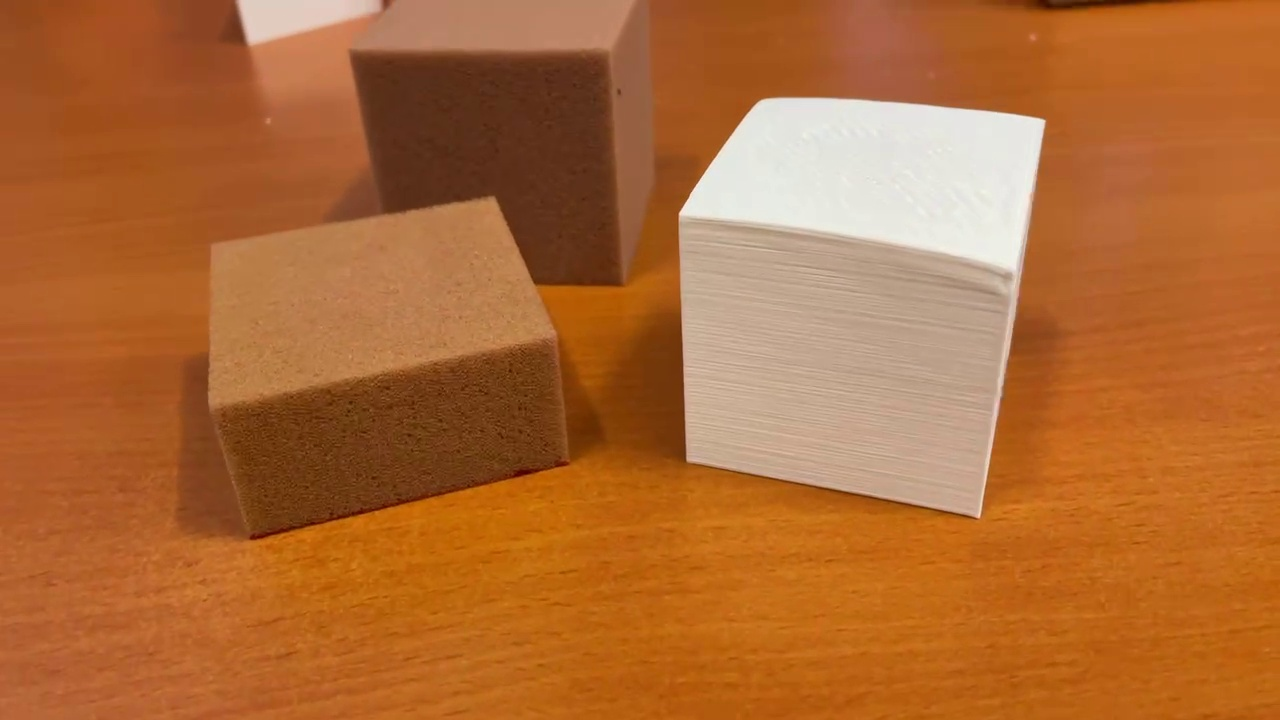Cube: (672, 92, 1051, 523), (344, 1, 664, 290)
Cube_short: (201, 187, 577, 544)
